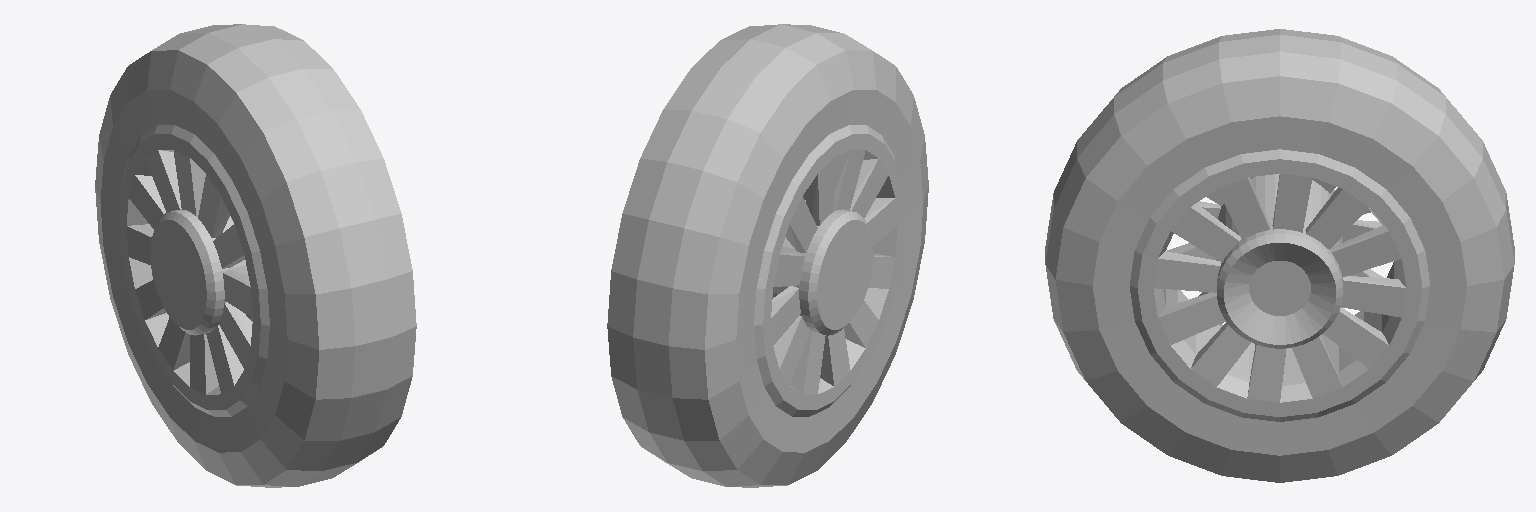
Rendered from tire2.obj.
The picture shows the model from 3 angles: view 1: azimuth 30°, elevation 25°; view 2: azimuth 150°, elevation 25°; view 3: azimuth 270°, elevation 25°; orthographic projection.
Visible parts, largest first — view 1: default; view 2: default; view 3: default.
Boxes of the visible parts, x1,y1,x2,y2 form: default: [95, 24, 416, 487]; default: [607, 24, 928, 487]; default: [1045, 29, 1514, 482].
Size of the model in its own units: 0.8192 by 2.15 by 2.15.